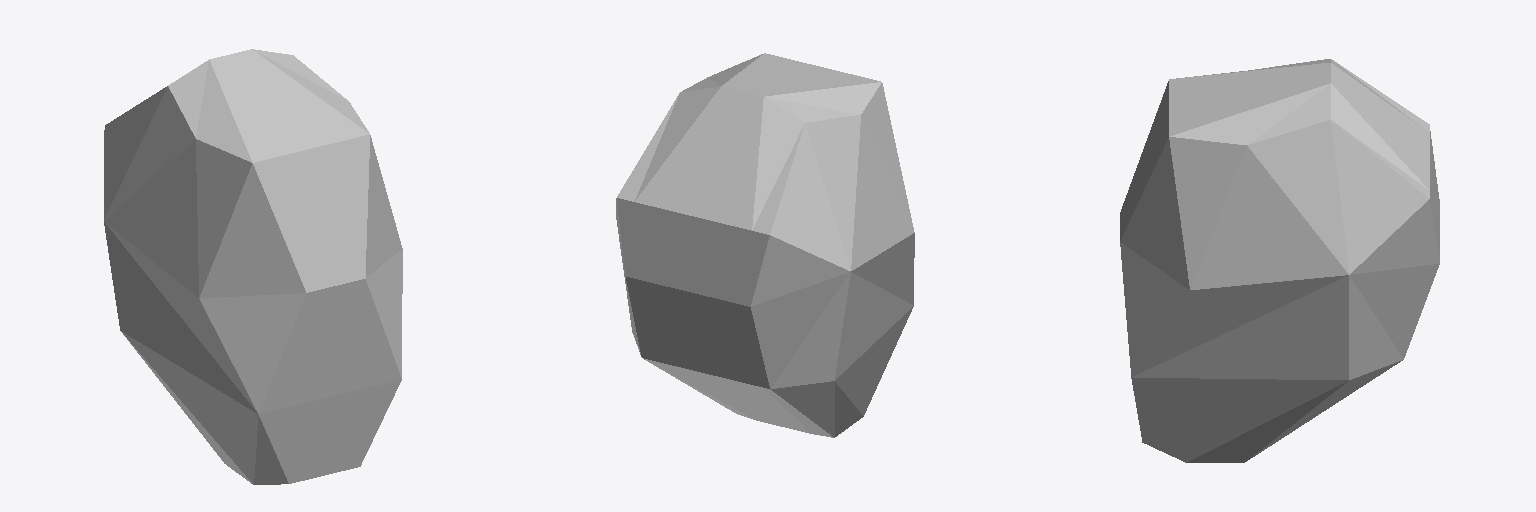
File: head.obj
3 views of the same model, side by side, from view 1: azimuth 30°, elevation 25°; view 2: azimuth 150°, elevation 25°; view 3: azimuth 270°, elevation 25° (orthographic).
Visible parts, largest first — view 1: Cube_Cube.001; view 2: Cube_Cube.001; view 3: Cube_Cube.001.
Part boxes in pixels (x1,y1,x2,y2): Cube_Cube.001: (104,49,402,484); Cube_Cube.001: (616,53,914,437); Cube_Cube.001: (1120,59,1439,462).
Bounding box in the file's own units: 1.01 × 1.51 × 1.19.